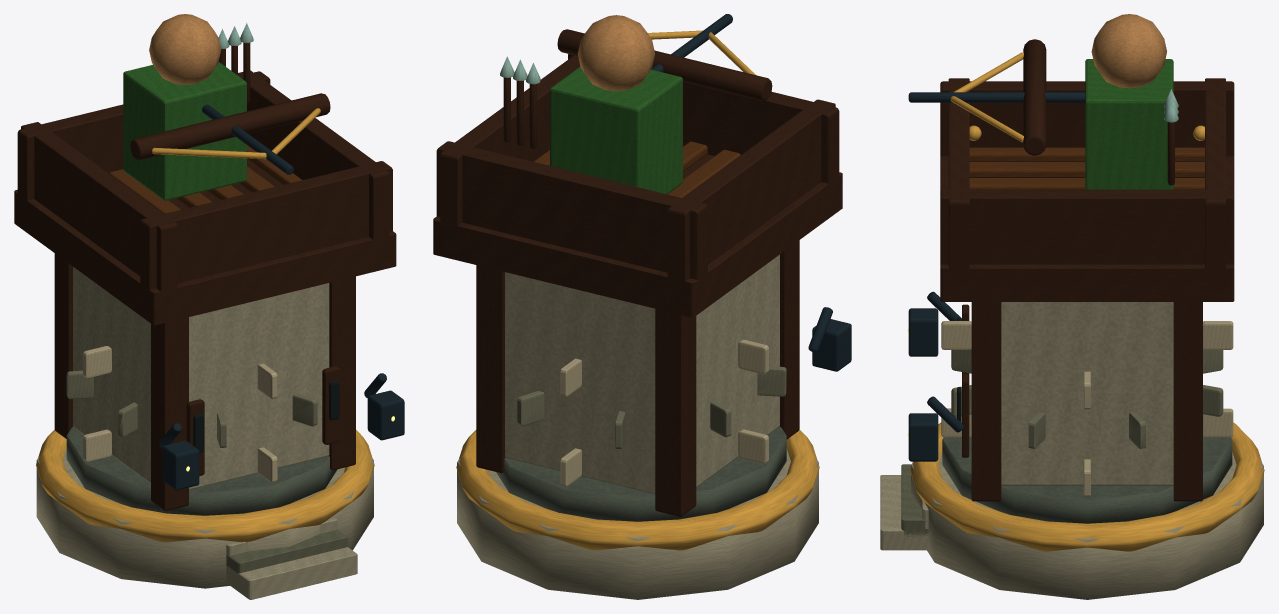
The model's file is tower-arrow-1-base.glb.
3 renders of one model, left to right at view 1: azimuth 30°, elevation 25°; view 2: azimuth 150°, elevation 25°; view 3: azimuth 270°, elevation 25°, orthographic. The views are drawn at different scales.
Visible parts, largest first — view 1: Turret, Foundation, arrow-L1-base; view 2: Turret, Foundation, arrow-L1-base; view 3: Turret, Foundation, arrow-L1-base.
Boxes of the visible parts, <box> form: Turret: <box>14,14,396,325</box>; Foundation: <box>36,253,404,599</box>; arrow-L1-base: <box>36,427,373,588</box>; Turret: <box>433,14,842,317</box>; Foundation: <box>456,240,851,550</box>; arrow-L1-base: <box>457,426,818,599</box>; Turret: <box>908,14,1234,301</box>; Foundation: <box>880,291,1264,551</box>; arrow-L1-base: <box>911,437,1263,599</box>.
Bounding box in the file's own units: 1.69 × 2.67 × 1.83.
14 materials, 14 textured.
